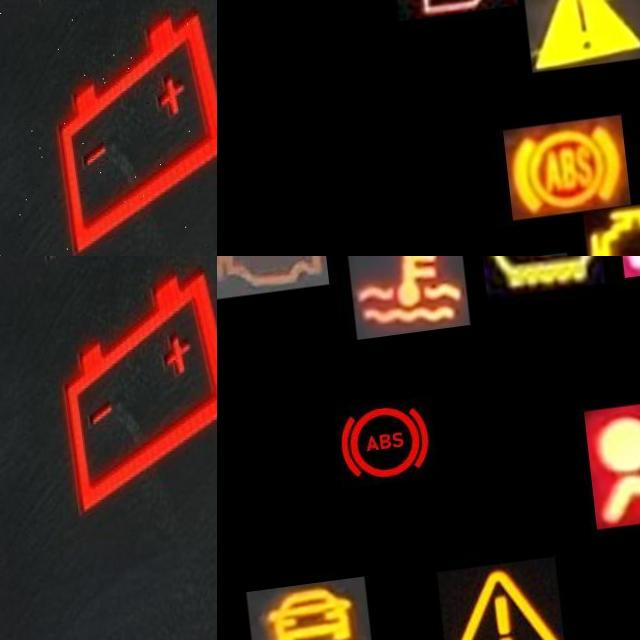Central Warning lamp: (516, 0, 640, 80), (427, 565, 555, 640)
Engine cooling system: (343, 256, 467, 344)
